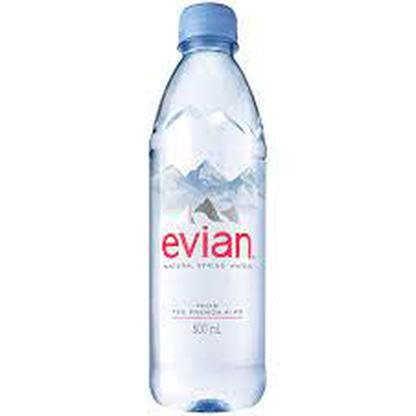plastic bottle: (150, 2, 267, 411)
